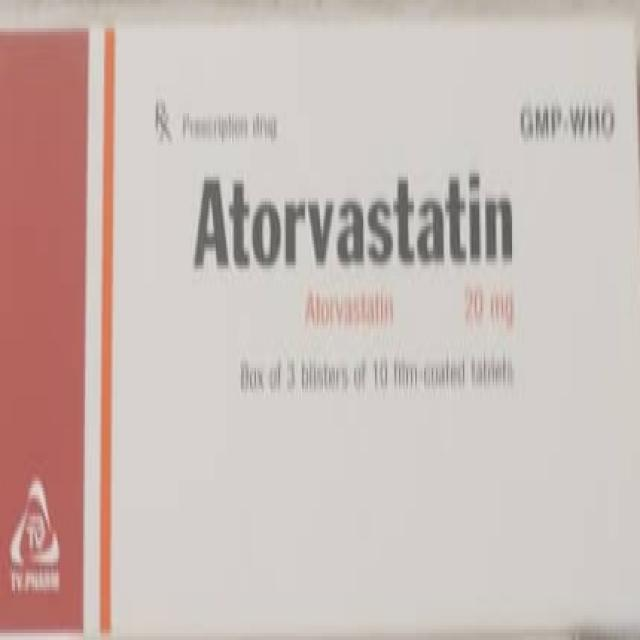drug-name: (188, 173, 522, 270)
